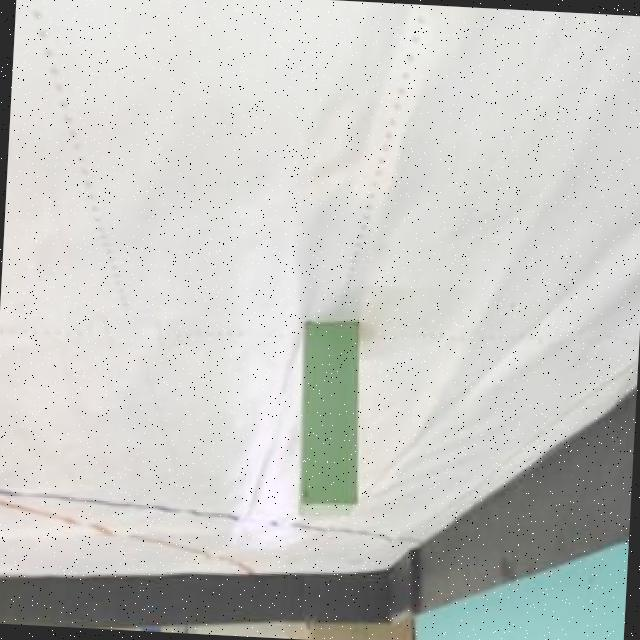greenbox: (295, 312, 366, 525)
